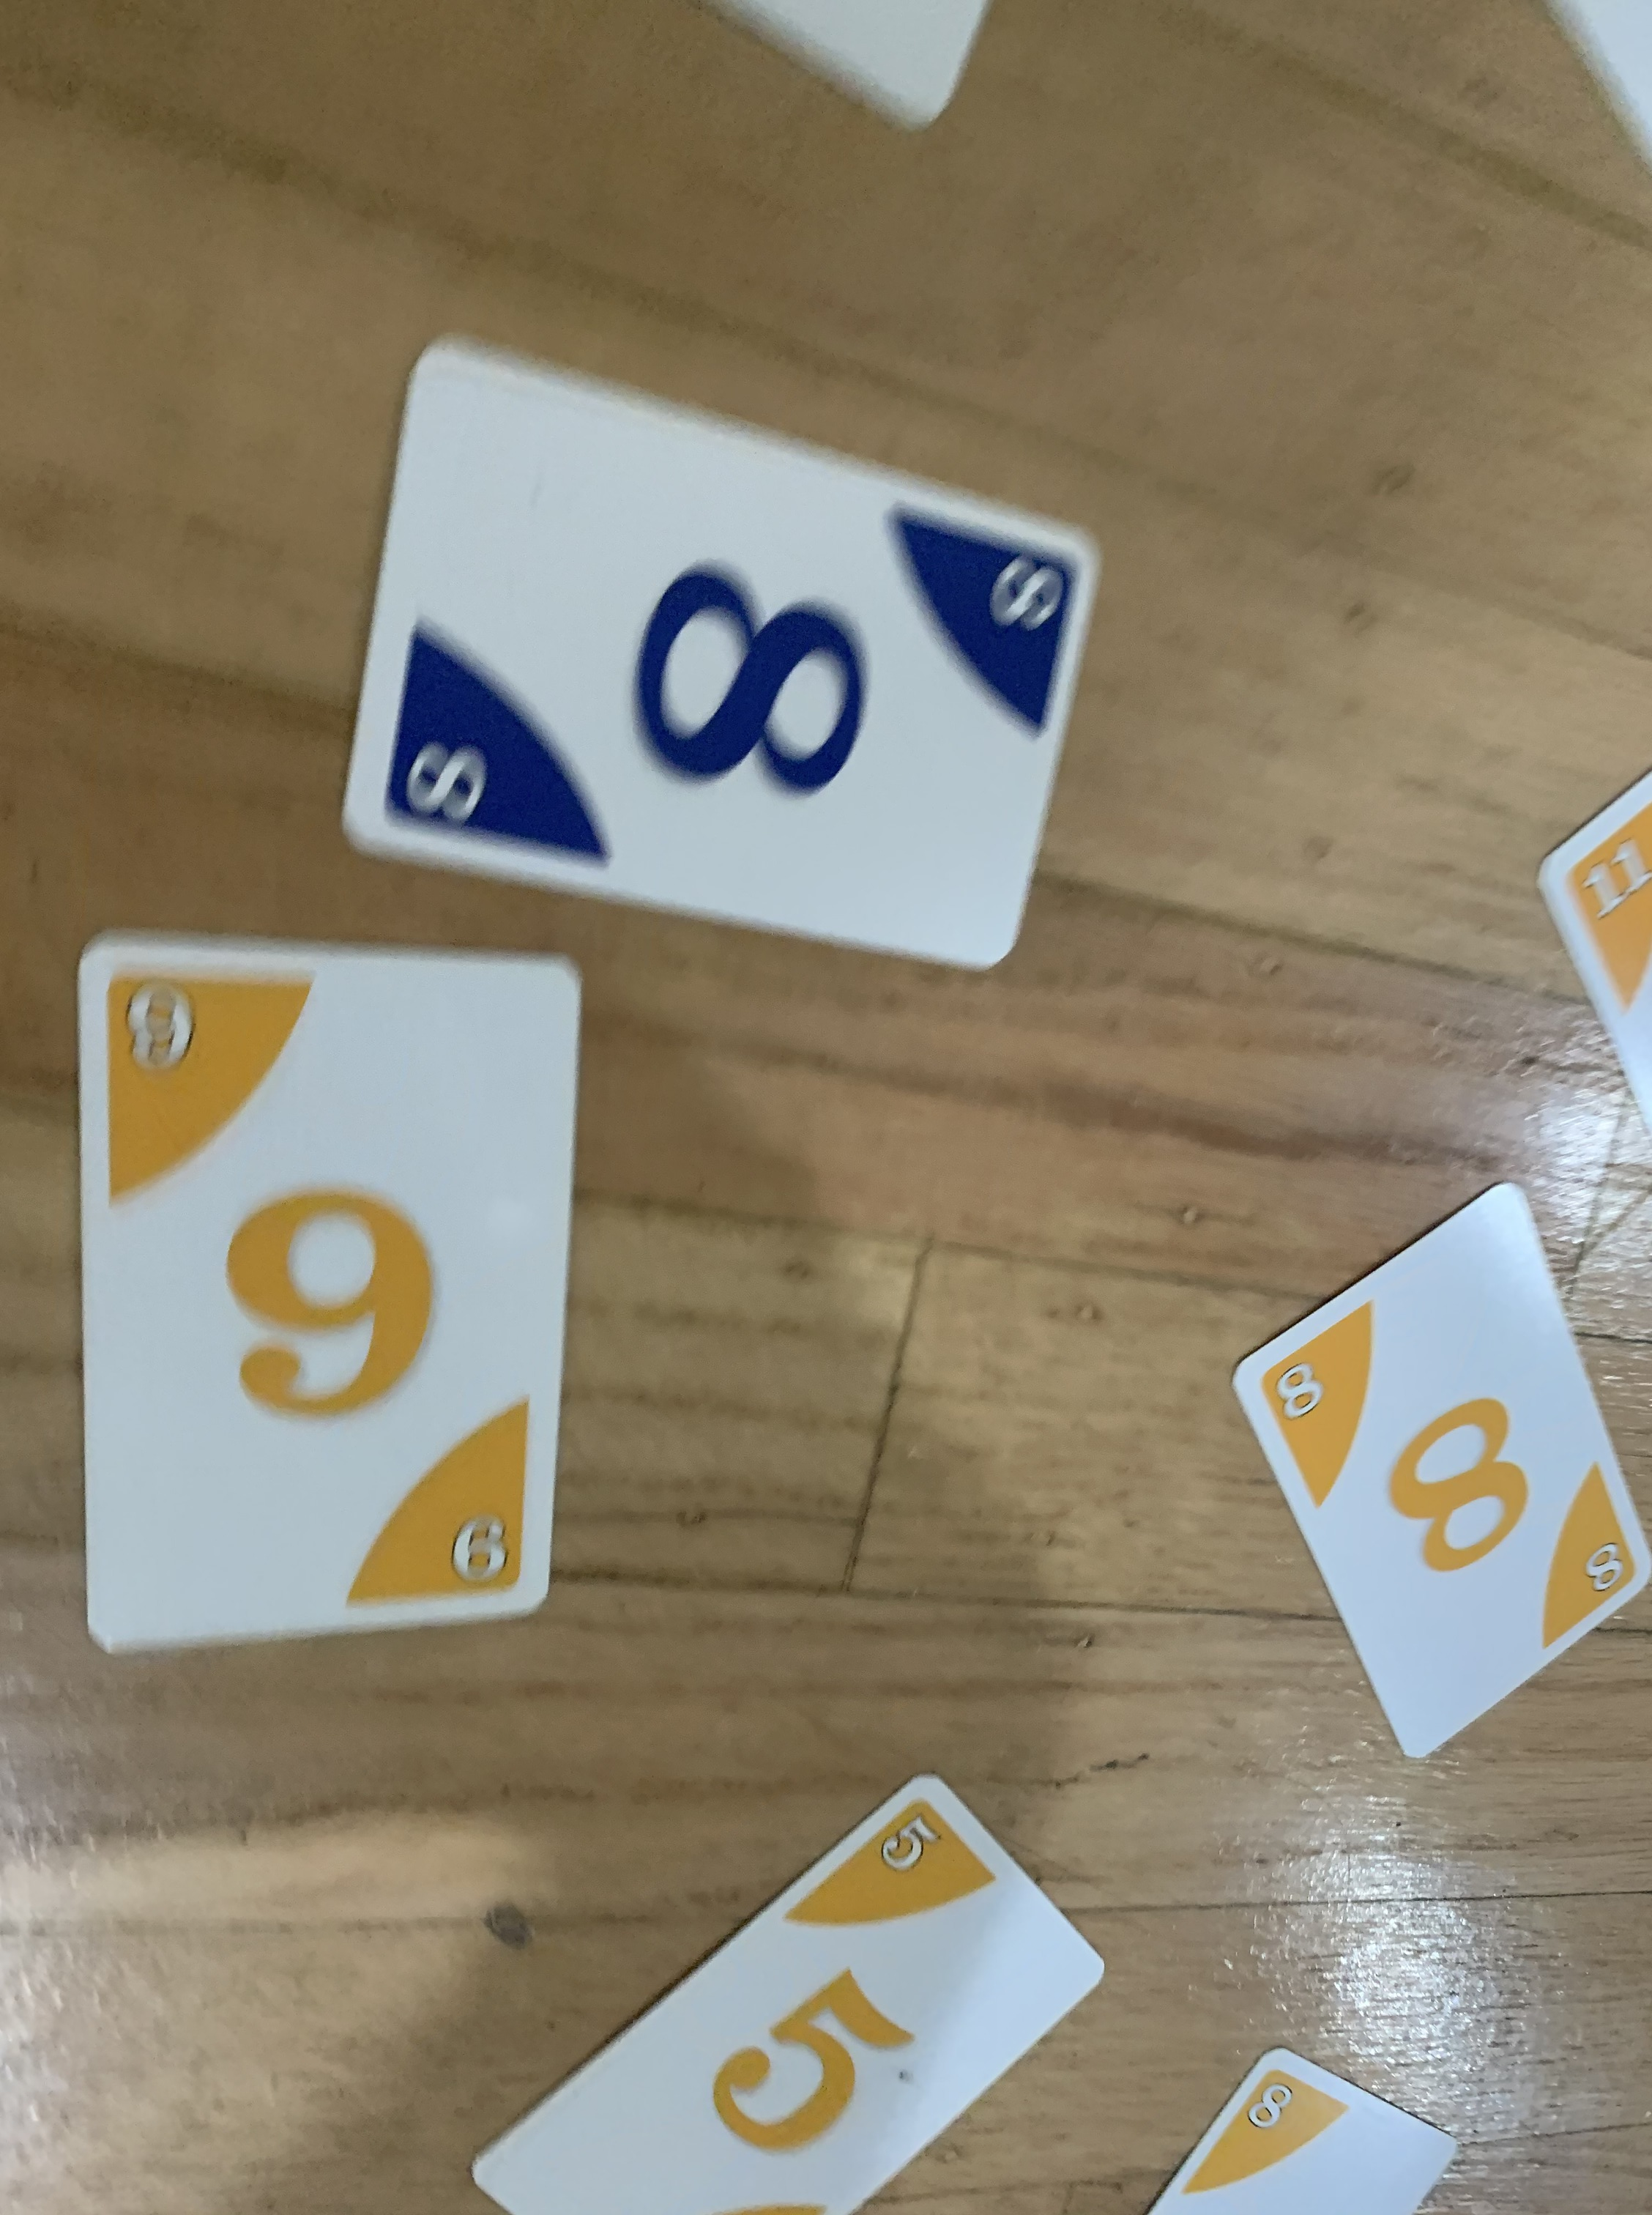eight: (331, 333, 1097, 976), (1234, 1180, 1652, 1764)
five: (475, 1771, 1112, 2215)
nine: (66, 923, 592, 1653)
